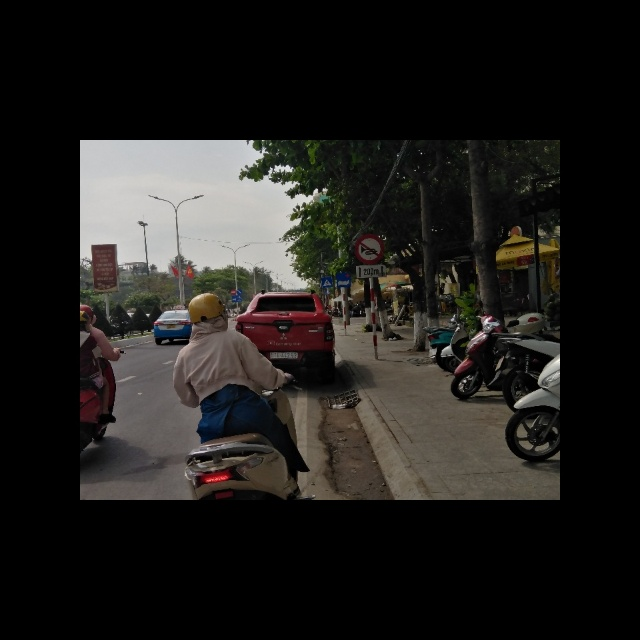Bệnh viện: (337, 272, 351, 289)
Cấm bấm còi: (354, 235, 385, 266)
Đường dành cho người đi bộ: (320, 277, 333, 288)
